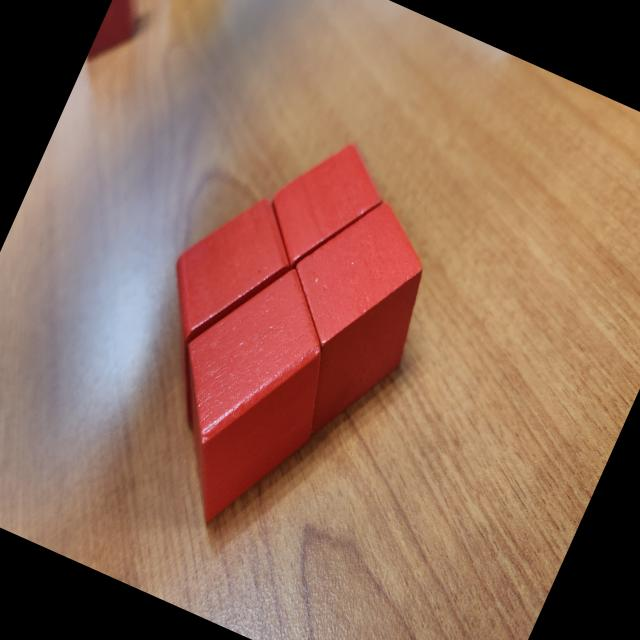red: (121, 240, 372, 550), (228, 177, 459, 469), (130, 176, 310, 412), (250, 124, 398, 290), (85, 0, 165, 76)
